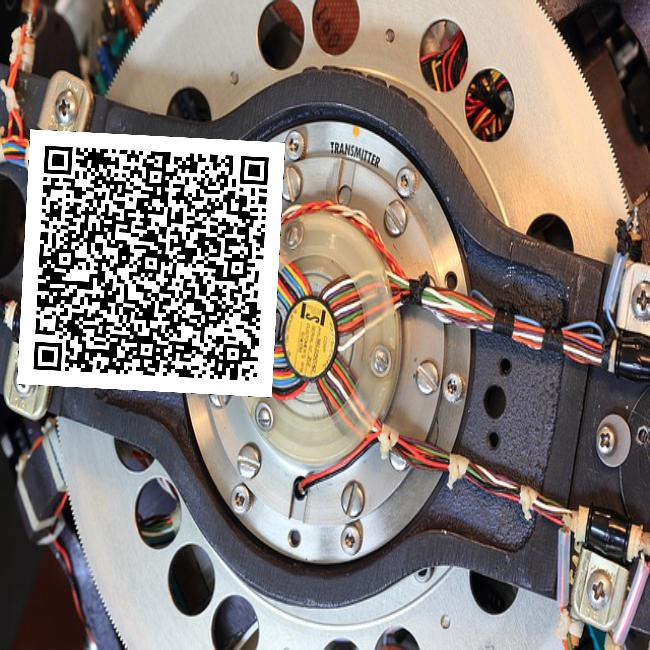qr_code: (17, 130, 284, 396)
